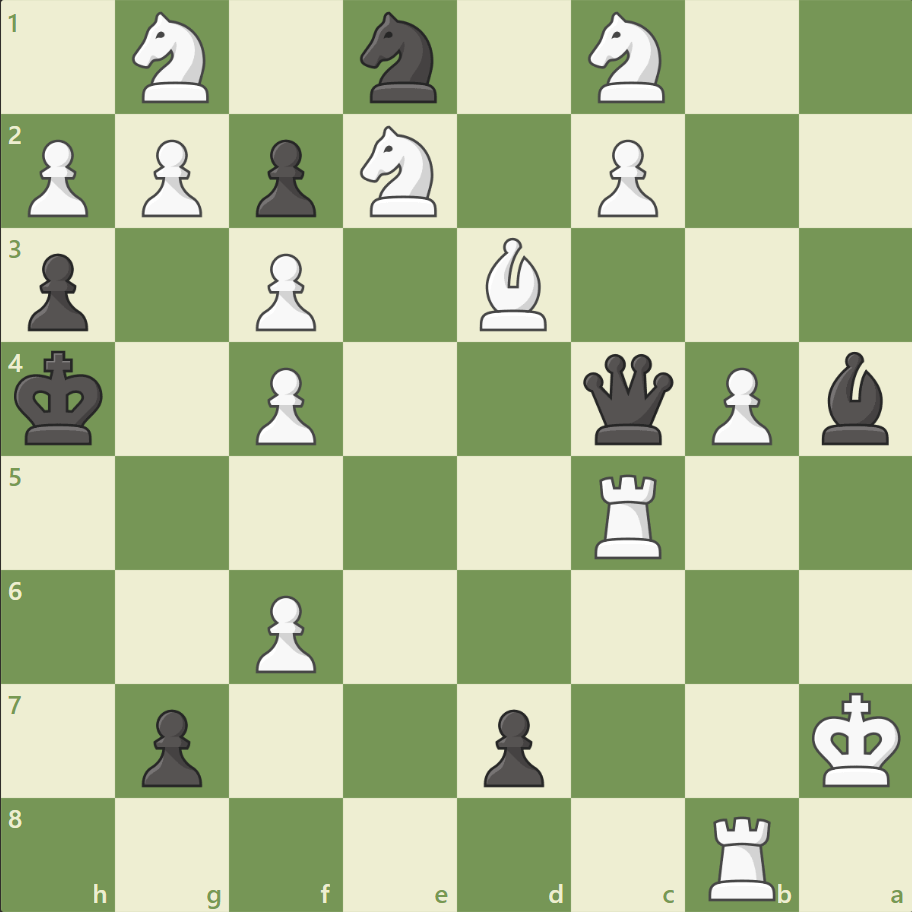B: (471, 233, 555, 336)
K: (806, 685, 906, 793)
N: (124, 7, 222, 110), (351, 121, 449, 223), (579, 7, 676, 110)
P: (247, 586, 322, 677), (701, 359, 776, 450), (247, 359, 322, 450), (247, 246, 322, 337), (133, 132, 208, 223), (20, 132, 95, 223), (588, 132, 662, 223)
R: (700, 806, 783, 904), (587, 466, 670, 563)
b: (812, 347, 896, 449)
k: (11, 344, 111, 452)
n: (351, 7, 449, 110)
p: (474, 700, 549, 791), (133, 700, 208, 791), (20, 246, 95, 337), (247, 132, 322, 223)
q: (578, 349, 677, 449)
